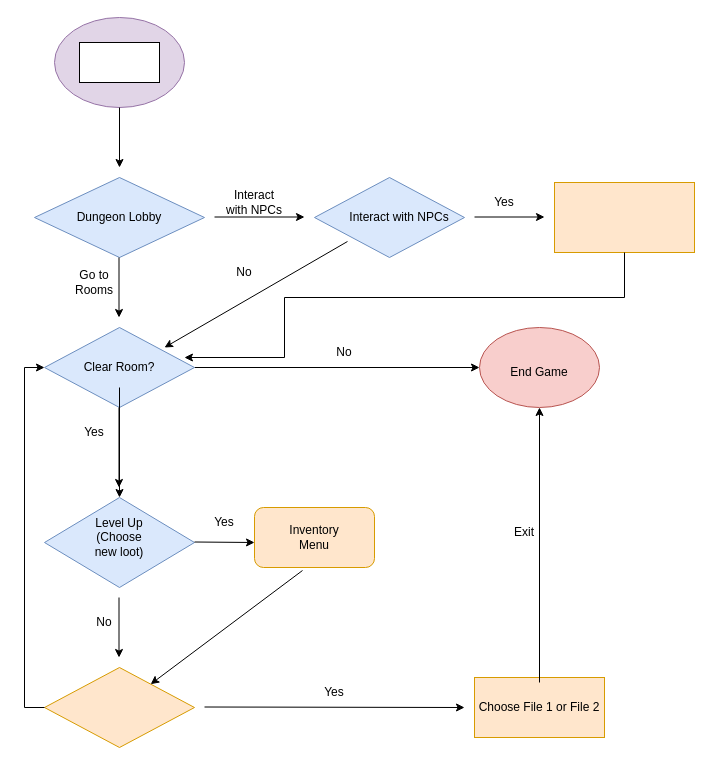
Some shapes in this 712 by 765 pixel diagram are drawn without their labels. Here are the shapes that lost their labels. From the top down, the centre of each, then its label:
point 119,62: Start
point 624,217: NPC Dialogue
point 119,707: Save Game
